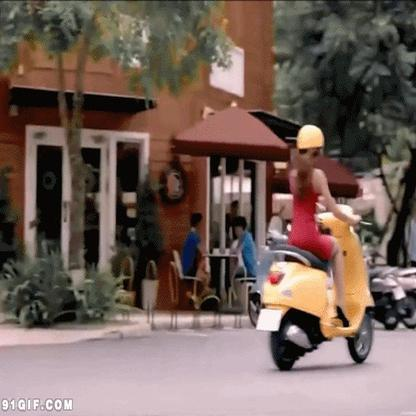target: (254, 123, 383, 373)
